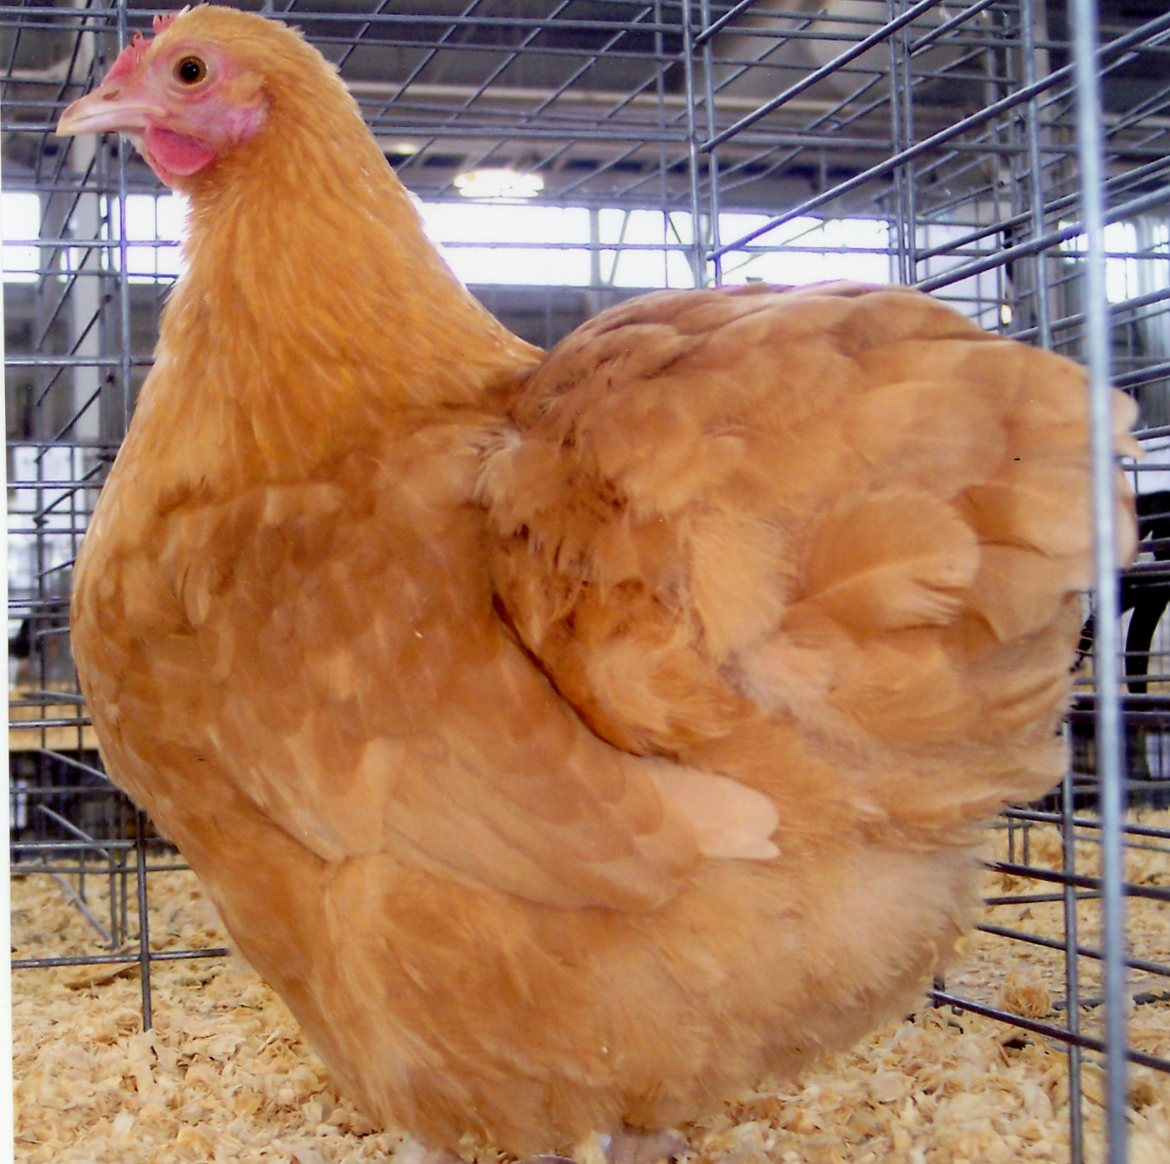buff: (36, 33, 1007, 1077)
